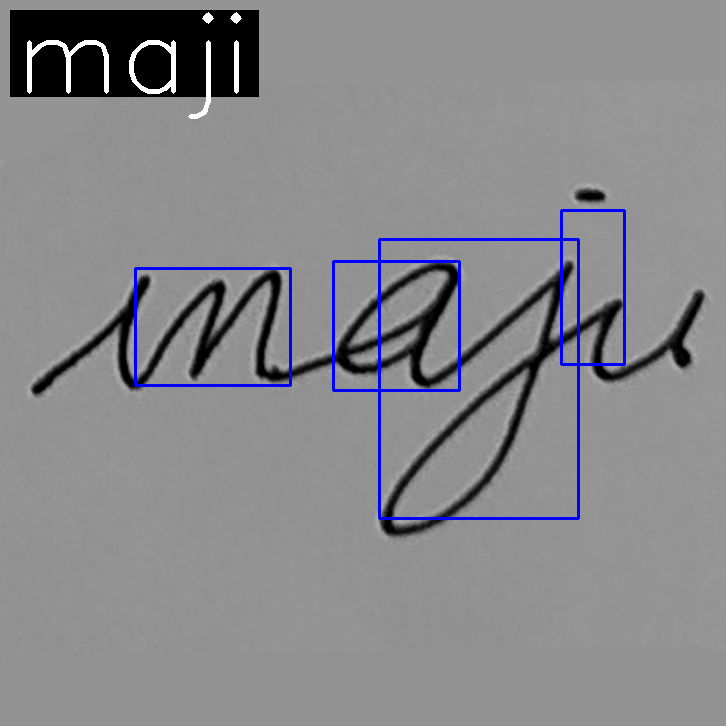a: (330, 256, 463, 386)
j: (375, 185, 608, 538)
m: (116, 264, 284, 392)
u: (587, 287, 708, 386)
